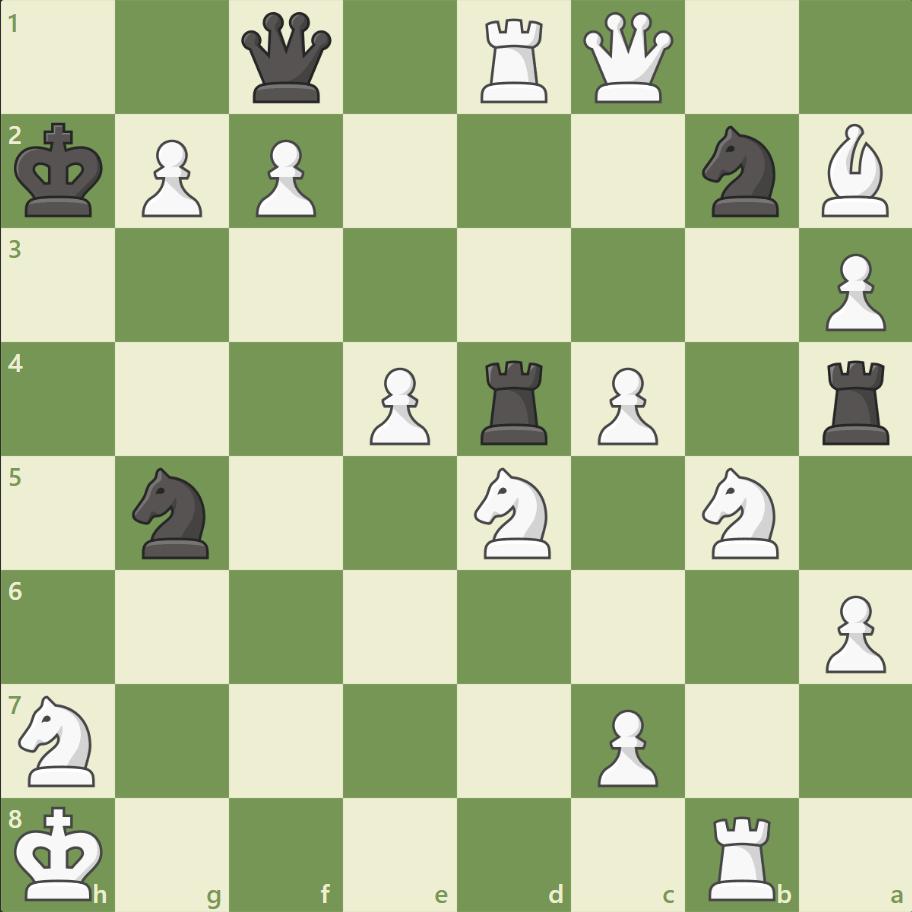B: (812, 120, 896, 222)
K: (11, 798, 111, 906)
N: (11, 688, 108, 791), (692, 461, 789, 564), (465, 461, 562, 564)
P: (247, 132, 322, 223), (133, 132, 208, 223), (588, 700, 662, 791), (815, 586, 889, 677), (588, 359, 662, 450), (361, 359, 435, 450), (815, 246, 889, 337)
Q: (578, 9, 677, 108)
R: (700, 806, 783, 904), (473, 12, 556, 109)
k: (11, 117, 111, 225)
n: (124, 461, 222, 564), (692, 121, 789, 223)
q: (237, 9, 336, 108)
r: (814, 352, 897, 449), (473, 352, 556, 449)
